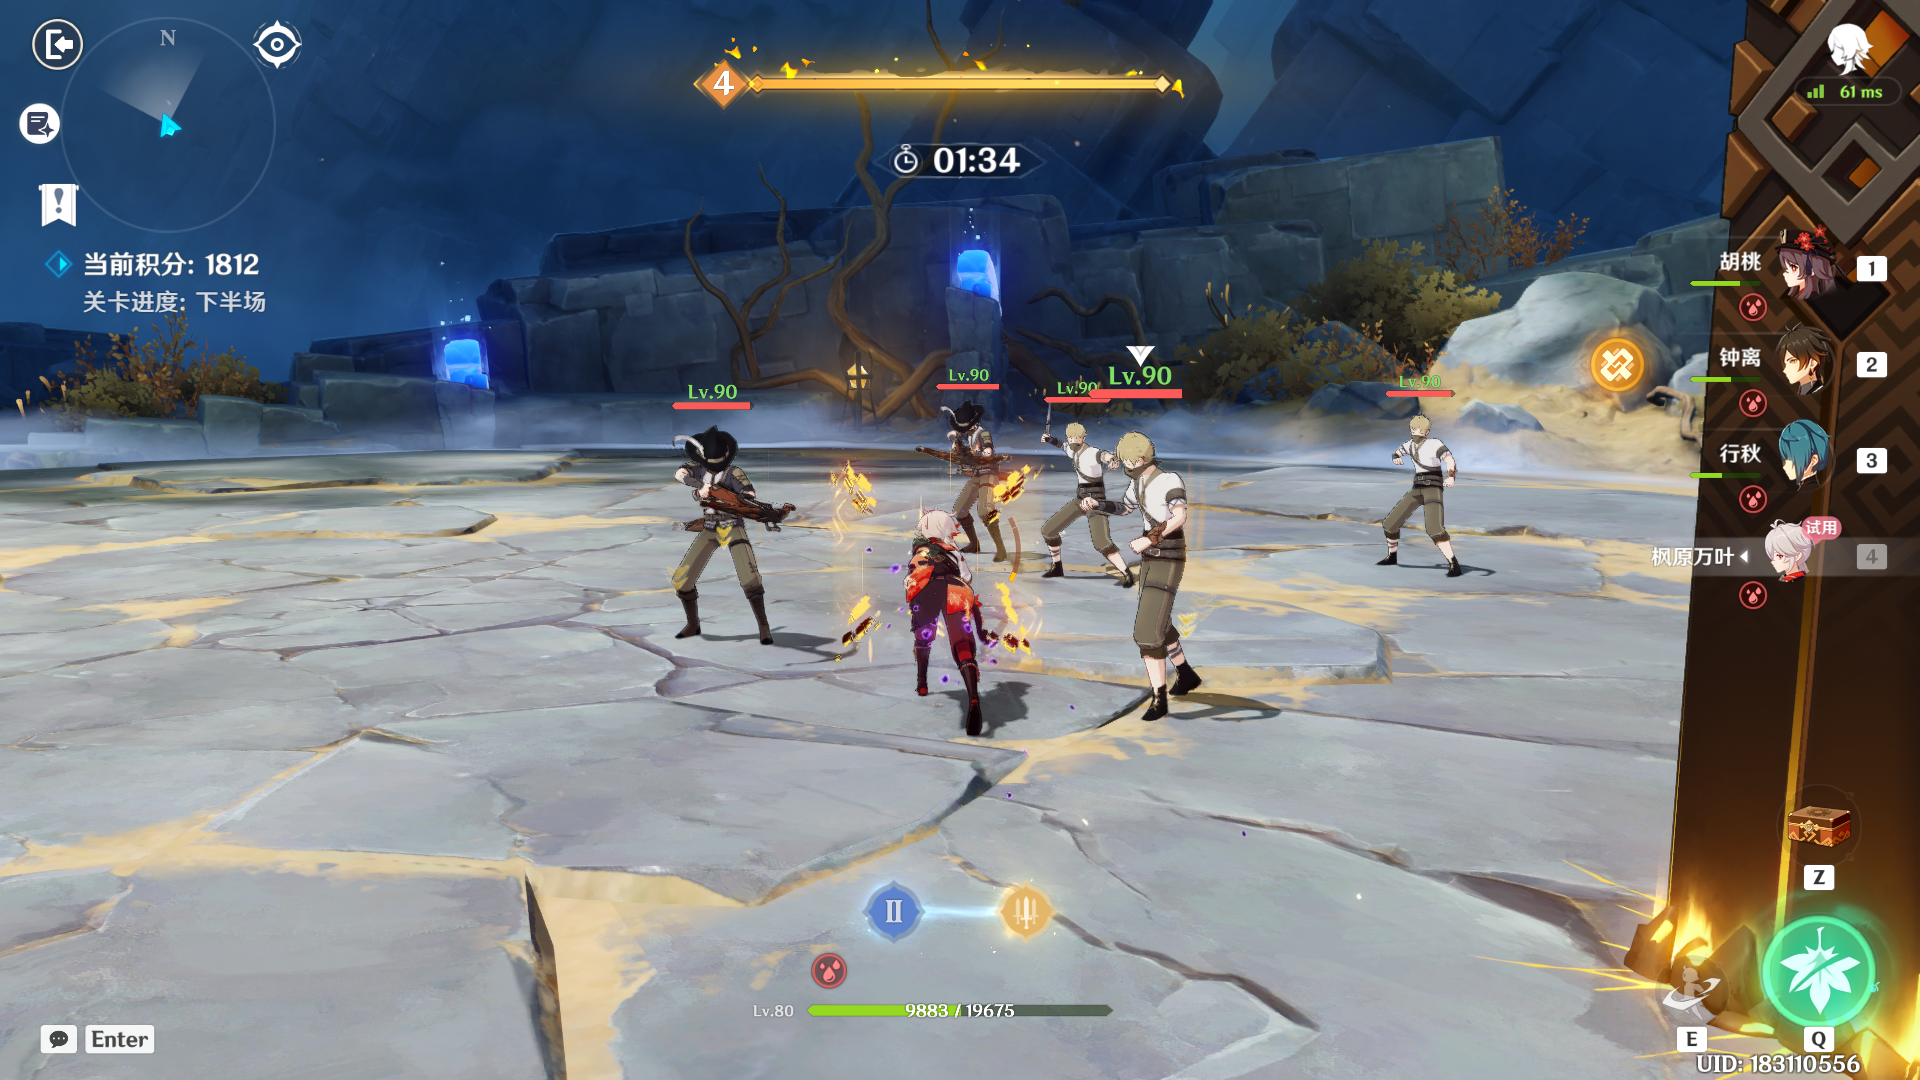character: (852, 475, 1040, 785)
robber: (1095, 421, 1251, 746), (638, 425, 807, 678), (898, 402, 1036, 584), (1023, 427, 1166, 596), (1369, 400, 1501, 582)
